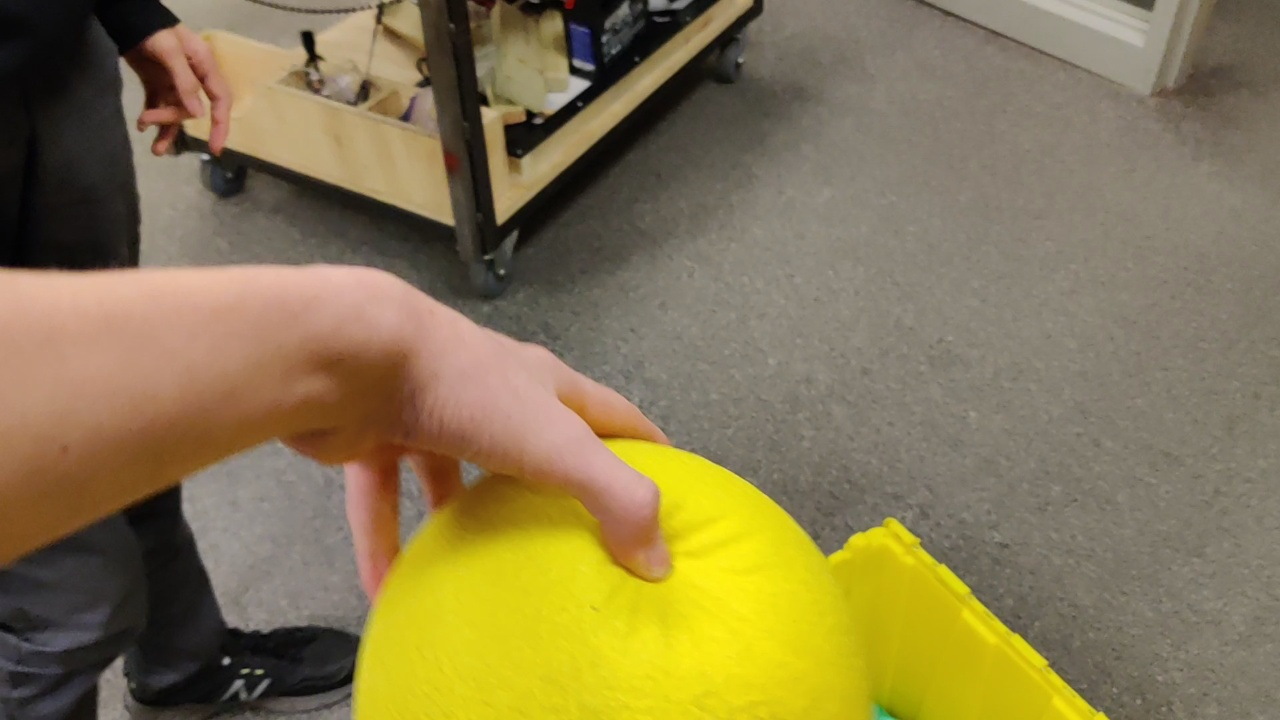Ball: (351, 440, 873, 720)
